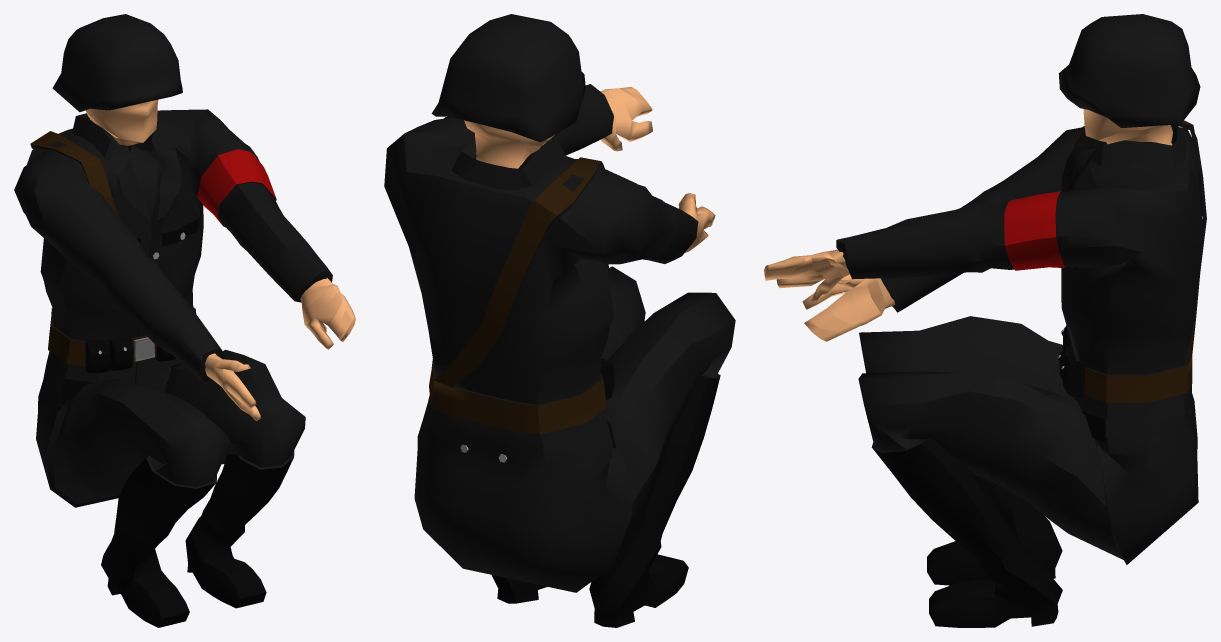
Rendered from german_infantry_aim_crouch_04.glb.
The picture shows the model from 3 angles, left to right: view 1: azimuth 30°, elevation 25°; view 2: azimuth 150°, elevation 25°; view 3: azimuth 270°, elevation 25°; orthographic projection. The views are drawn at different scales.
Parts seen in each view (by area): view 1: Soldier_1_Static, Helmet_Static; view 2: Soldier_1_Static, Helmet_Static; view 3: Soldier_1_Static, Helmet_Static.
Boxes of the visible parts, x1=… form: Soldier_1_Static: x1=14, y1=99, x2=355, y2=627; Helmet_Static: x1=52, y1=14, x2=182, y2=112; Soldier_1_Static: x1=384, y1=84, x2=735, y2=627; Helmet_Static: x1=431, y1=14, x2=585, y2=142; Soldier_1_Static: x1=764, y1=109, x2=1206, y2=627; Helmet_Static: x1=1058, y1=14, x2=1200, y2=127.
Size of the model in its own units: 0.4721 by 1.1 by 0.7653.
Materials: 1 (1 with a texture image).
